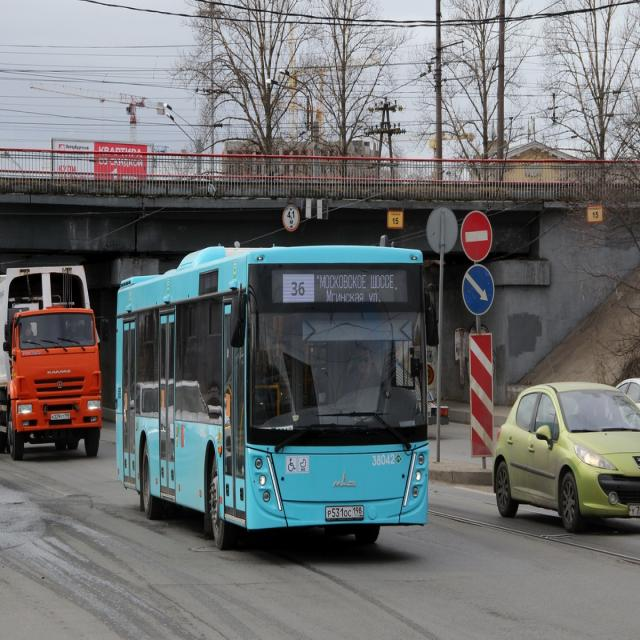number-of-bus: (288, 277, 310, 301)
